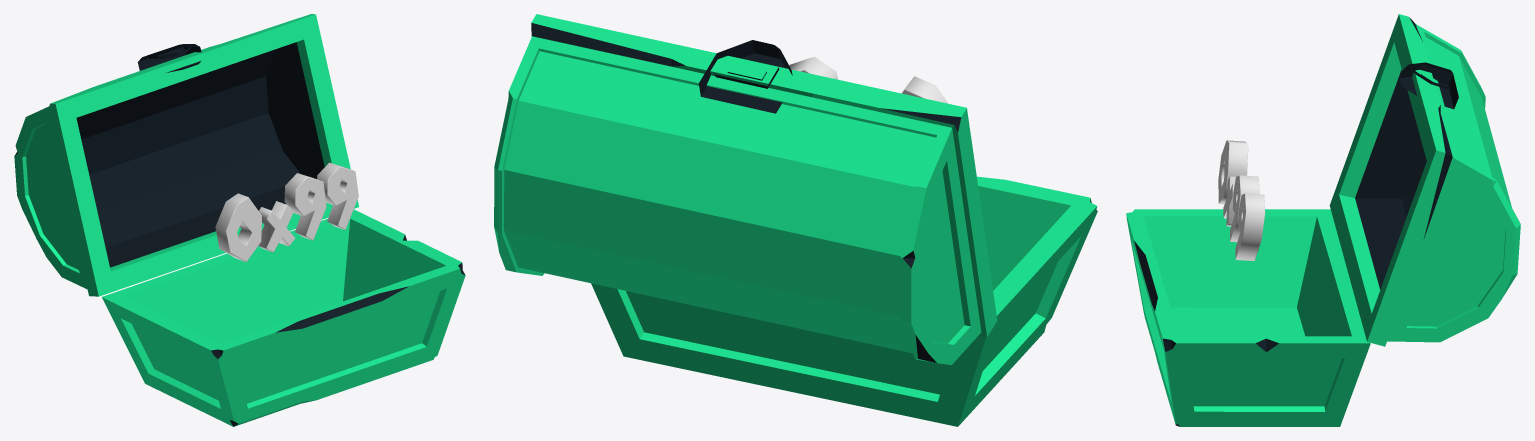
File: green_chest.glb
3 renders of one model, left to right at view 1: azimuth 30°, elevation 25°; view 2: azimuth 150°, elevation 25°; view 3: azimuth 270°, elevation 25°, orthographic. The views are drawn at different scales.
Parts seen in each view (by area): view 1: Plane.002, Text; view 2: Plane.002, Text; view 3: Plane.002, Text.
Part boxes in pixels (box(x1,y1,x2,y2)): Plane.002: box(14, 14, 465, 426); Text: box(215, 162, 358, 262); Plane.002: box(494, 14, 1097, 426); Text: box(789, 56, 948, 103); Plane.002: box(1126, 14, 1520, 426); Text: box(1218, 140, 1265, 260).
Bounding box in the file's own units: 4.91 × 4.26 × 5.09.
Materials: 1 (1 with a texture image).
